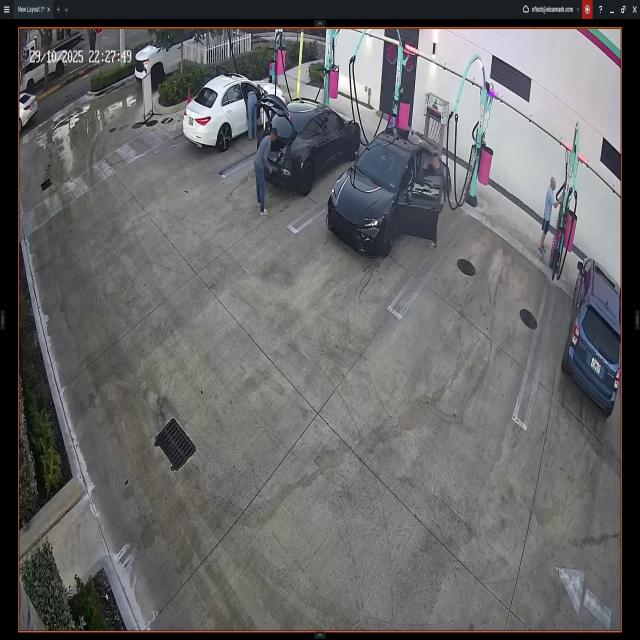Car: (328, 128, 452, 260), (255, 96, 358, 186), (561, 258, 618, 415), (182, 75, 283, 154), (133, 32, 218, 83), (20, 90, 37, 134)
